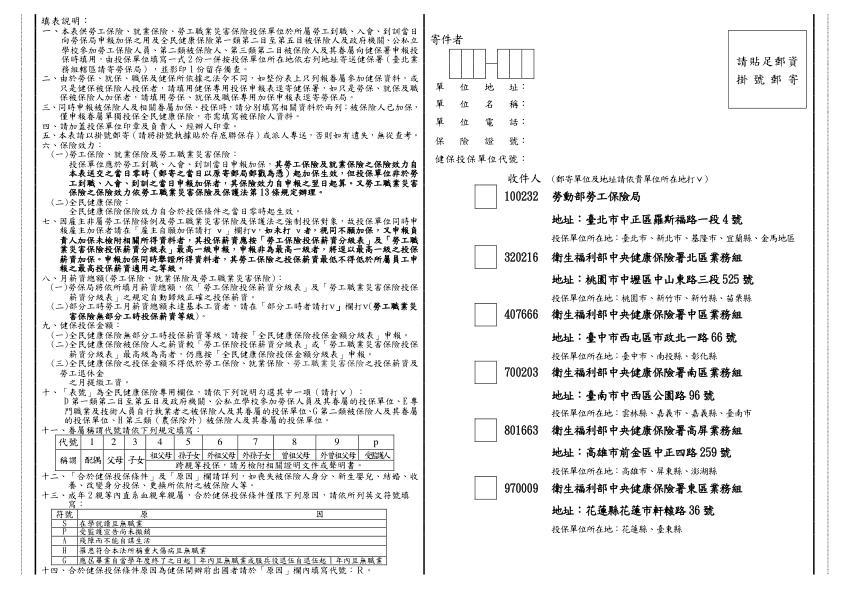check_box: (469, 473, 499, 505), (470, 415, 499, 447), (469, 358, 499, 388), (471, 181, 499, 212), (471, 300, 499, 331), (471, 242, 499, 271)
table: (49, 508, 391, 567), (53, 433, 399, 472), (447, 47, 537, 80)
text: (39, 321, 419, 388), (42, 151, 420, 214), (39, 11, 419, 73), (40, 216, 420, 273), (37, 103, 422, 150), (39, 275, 420, 321), (503, 189, 795, 245), (39, 387, 422, 425), (501, 249, 758, 304), (501, 306, 753, 362), (501, 364, 755, 419), (502, 480, 748, 536), (39, 472, 418, 508), (502, 421, 747, 475), (38, 74, 422, 102), (42, 565, 374, 577), (504, 170, 708, 186), (734, 47, 801, 89), (431, 115, 527, 129), (433, 134, 527, 147), (432, 80, 528, 92), (39, 426, 201, 433), (433, 153, 527, 165), (434, 98, 528, 110), (429, 30, 464, 45)
